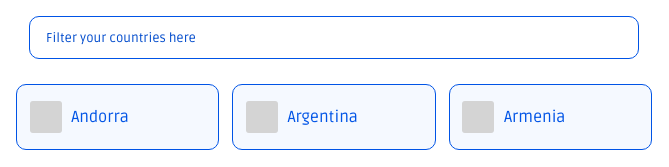
Test: CountryCardList › changing the input should filter the right countries
Type "argen" into the field with placeholder "Filter your countries here" at (334, 38), box x1=29 y1=16 x2=639 y2=59
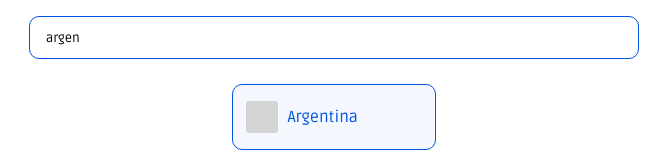
Expected: the text "Argentina" is shown, x1=288 y1=109 x2=358 y2=125
Expected: the link "Andorra" is gone
Expected: the link "Armenia" is gone
